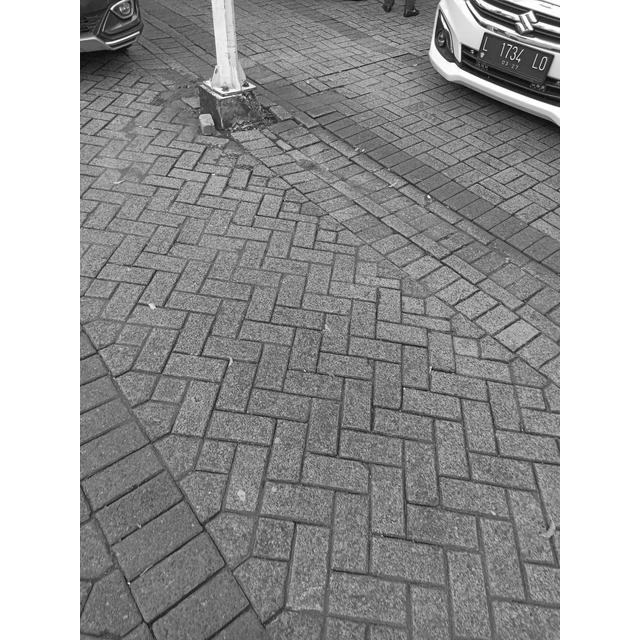license: (480, 32, 550, 77)
